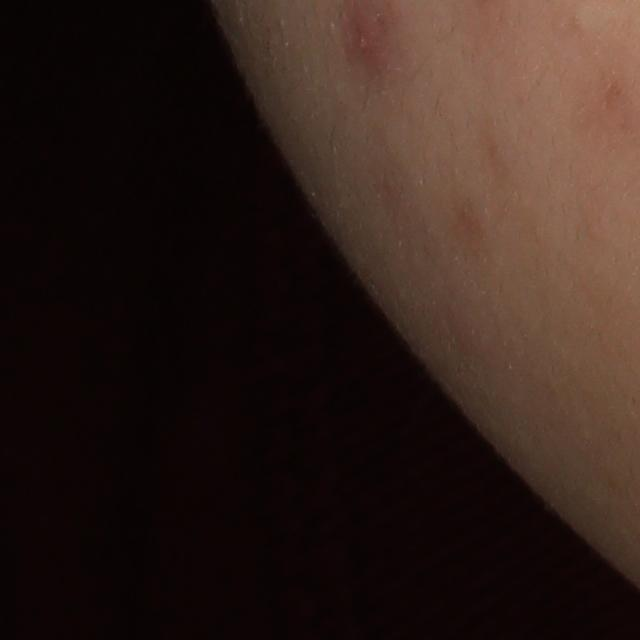comedo: (567, 4, 593, 32)
papule: (350, 10, 392, 69)
